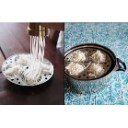idiyappam: (13, 55, 49, 81), (88, 50, 108, 62), (86, 62, 104, 74), (69, 60, 83, 75), (73, 50, 86, 62)
